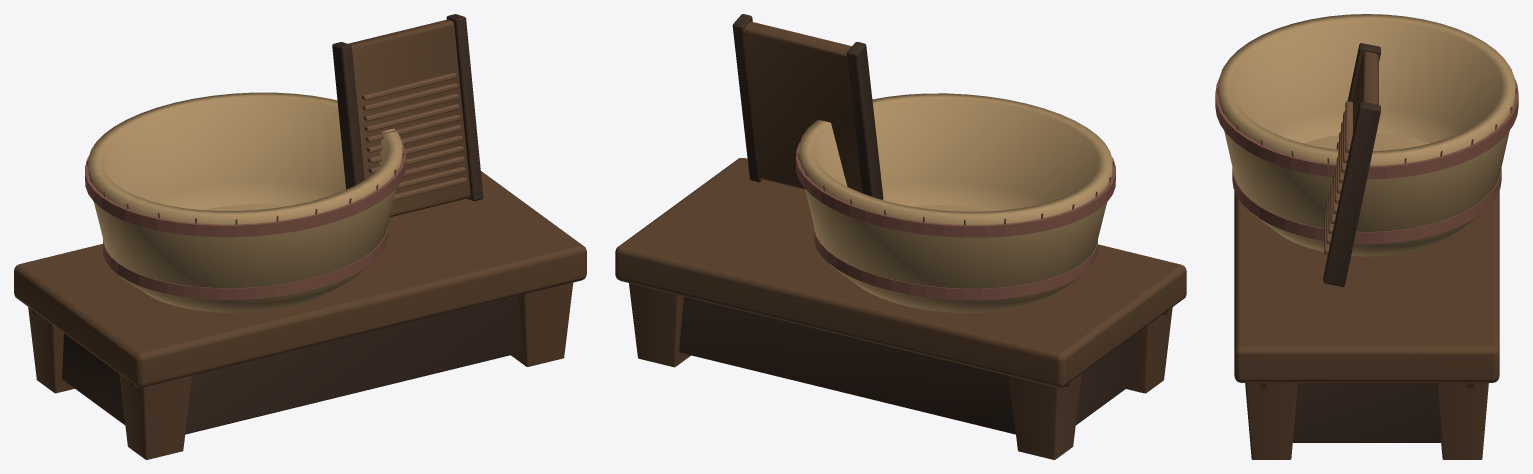
Rendered from kominka-tarai-01.glb.
The picture shows the model from 3 angles, left to right: view 1: azimuth 30°, elevation 25°; view 2: azimuth 150°, elevation 25°; view 3: azimuth 270°, elevation 25°; orthographic projection. The views are drawn at different scales.
Parts seen in each view (by area): view 1: kominka-tarai-01; view 2: kominka-tarai-01; view 3: kominka-tarai-01.
Part boxes in pixels (x1,y1,x2,y2): kominka-tarai-01: (14, 14, 586, 459); kominka-tarai-01: (615, 14, 1186, 459); kominka-tarai-01: (1215, 14, 1518, 459).
Bounding box in the file's own units: 0.9 × 0.6 × 0.5.
